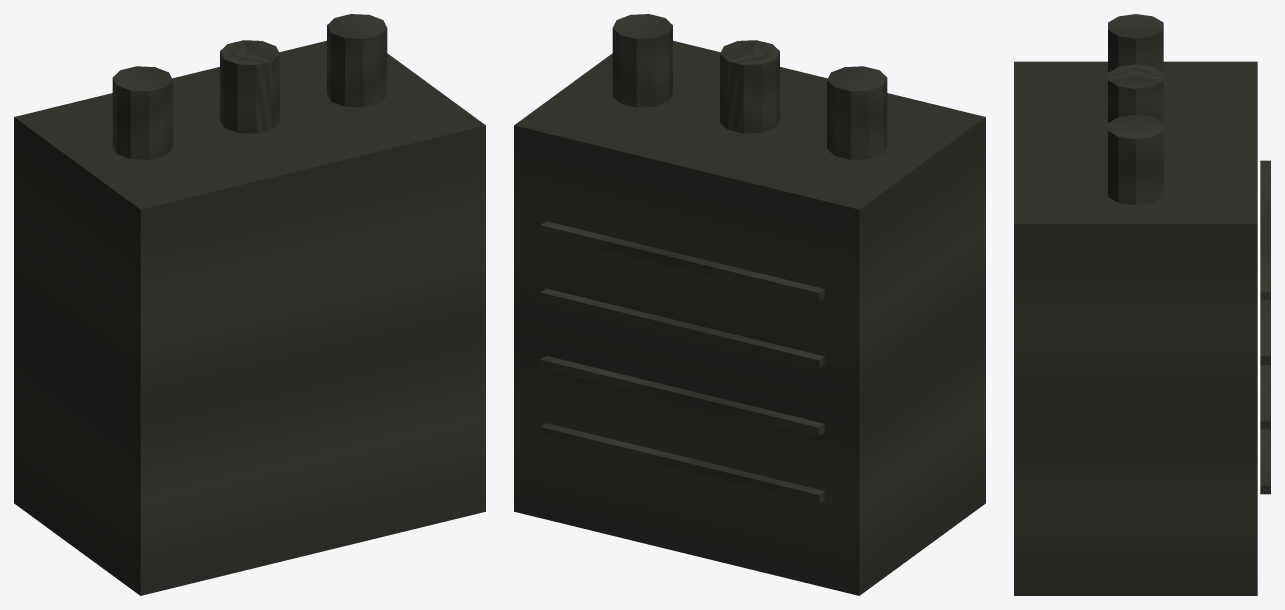
The model's file is env_transformer_cage_a.glb.
3 renders of one model, left to right at view 1: azimuth 30°, elevation 25°; view 2: azimuth 150°, elevation 25°; view 3: azimuth 270°, elevation 25°, orthographic. The views are drawn at different scales.
Visible parts, largest first — view 1: env_transformer_cage_a; view 2: env_transformer_cage_a; view 3: env_transformer_cage_a.
Part boxes in pixels (x1,y1,x2,y2): env_transformer_cage_a: [14, 14, 485, 595]; env_transformer_cage_a: [514, 14, 985, 595]; env_transformer_cage_a: [1014, 14, 1270, 595].
Size of the model in its own units: 1.45 by 1.83 by 0.97.
1 material, 1 textured.
